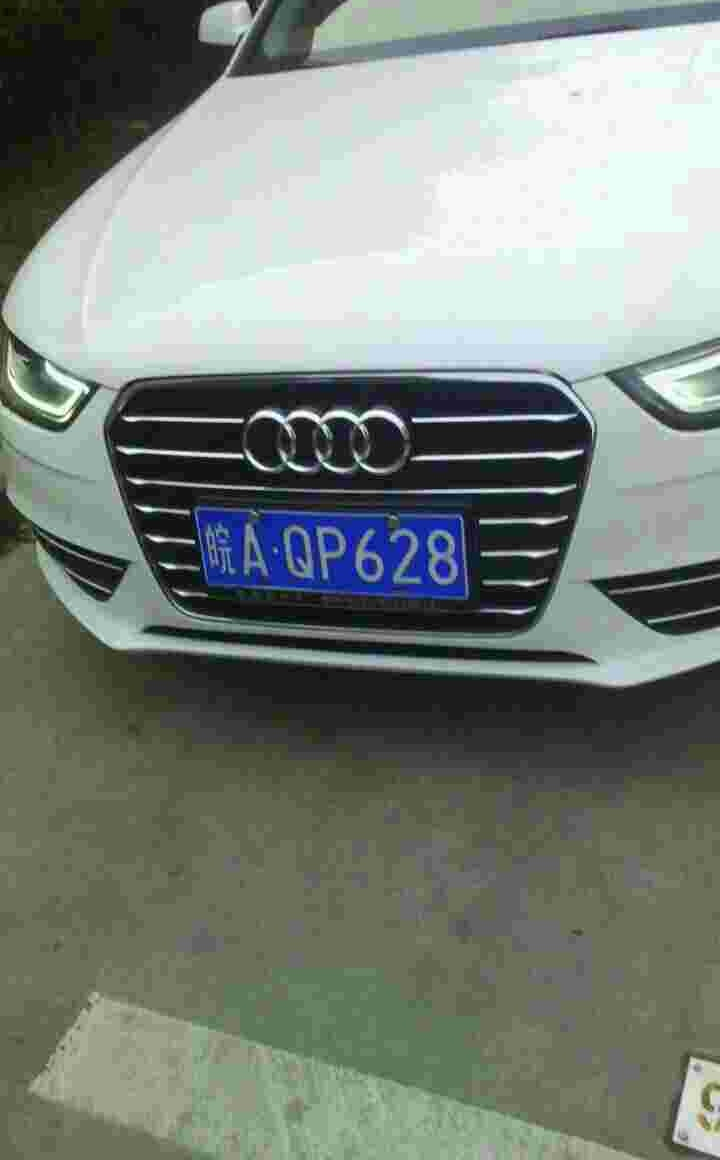car: (192, 507, 476, 602)
